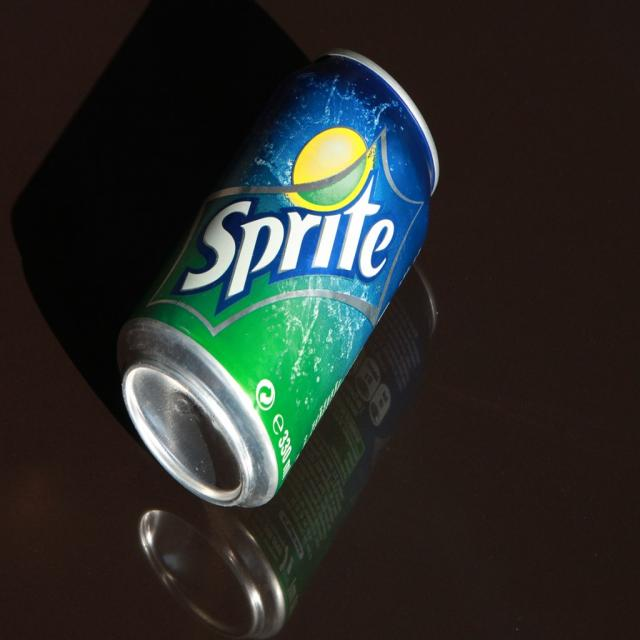sprite: (120, 35, 449, 520)
